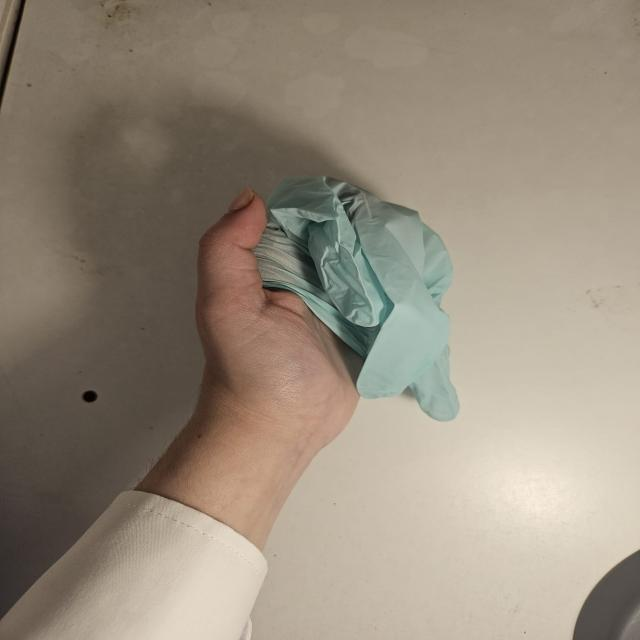glove_partial: (193, 174, 462, 422)
